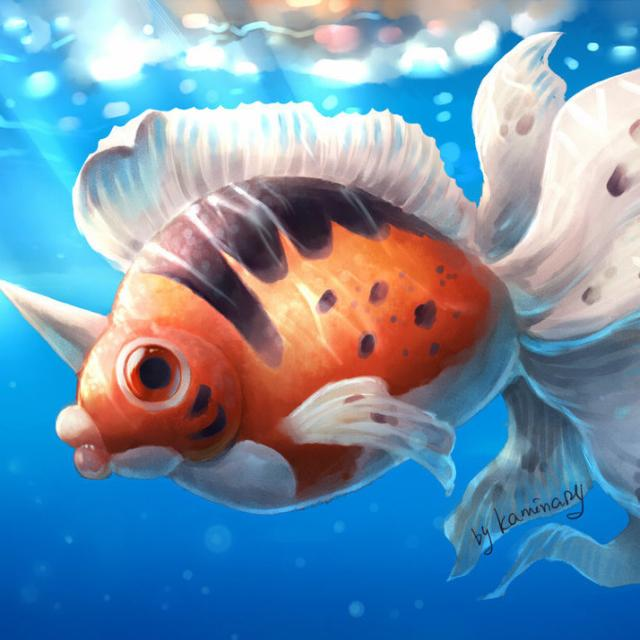Seaking: (5, 67, 640, 580)
